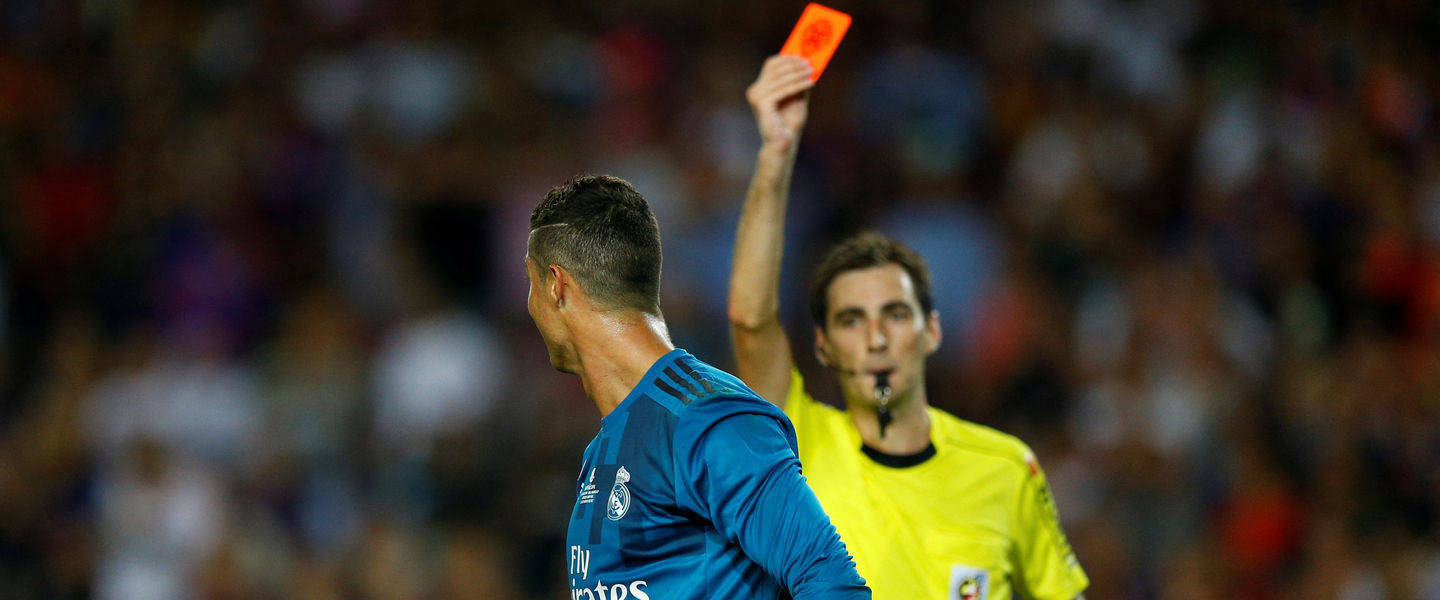red_card: (732, 3, 864, 150)
